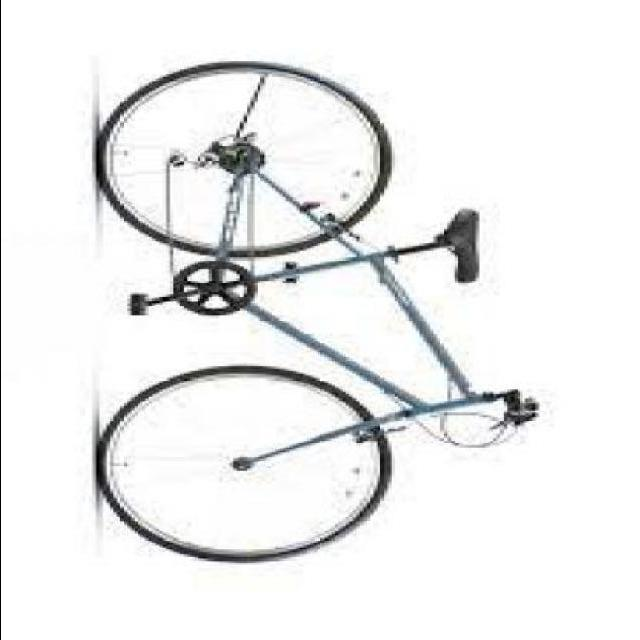bicycle: (92, 48, 538, 592)
